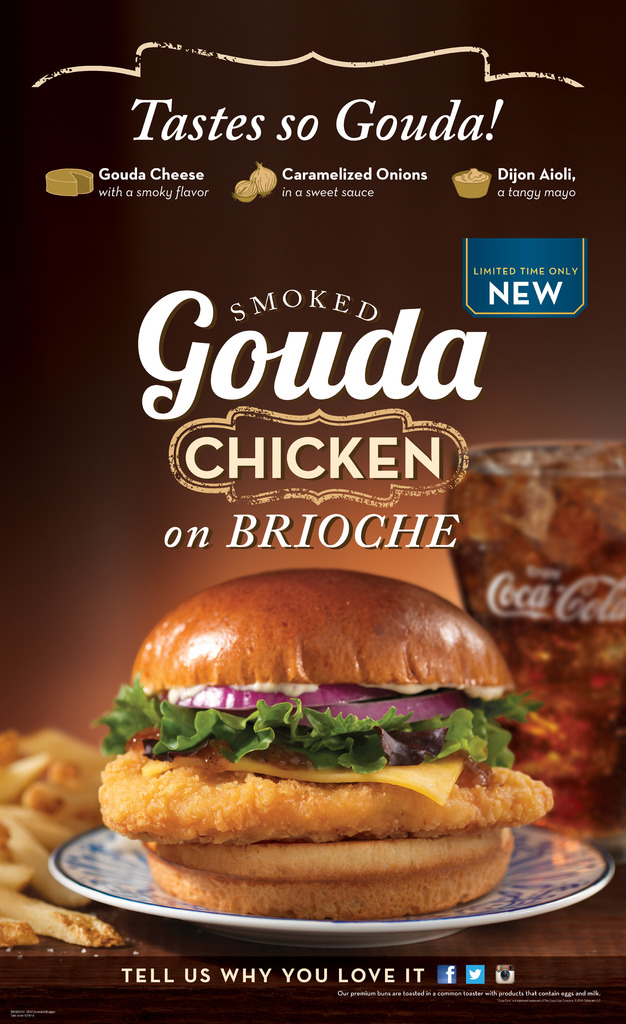Hamburger: (88, 570, 552, 924)
